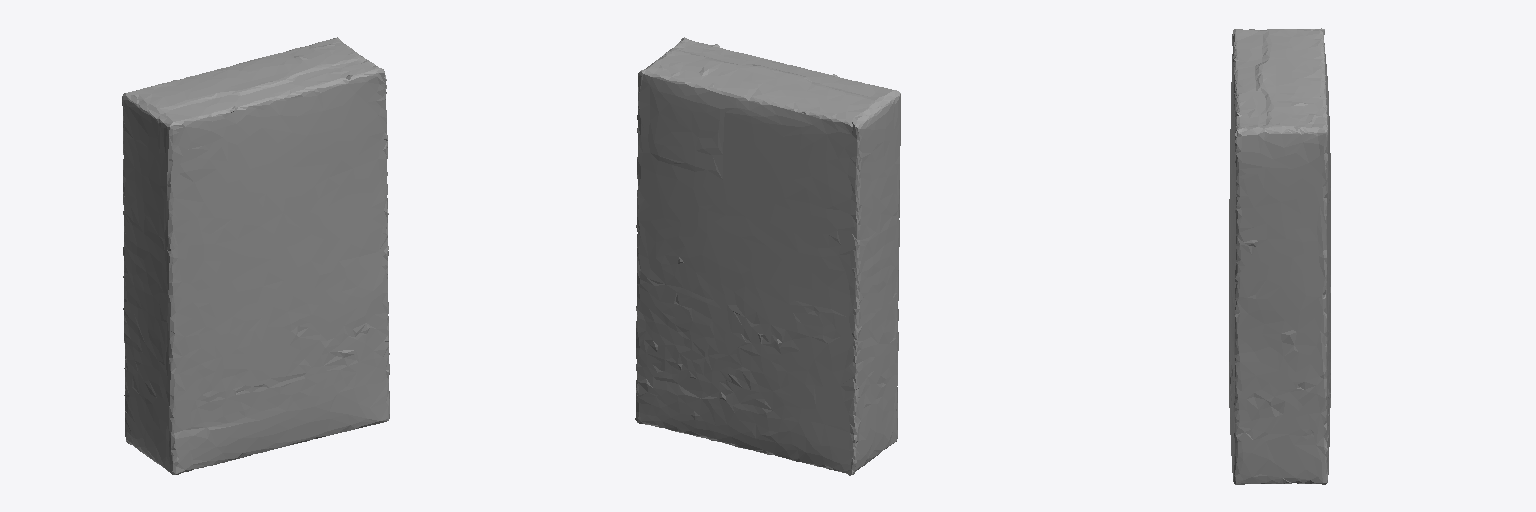
Rendered from KoellnMuesliKnusperHonigNuss.obj.
The picture shows the model from 3 angles: view 1: azimuth 30°, elevation 25°; view 2: azimuth 150°, elevation 25°; view 3: azimuth 270°, elevation 25°; orthographic projection.
Visible parts, largest first — view 1: Scan_PIVOT_Scan.003; view 2: Scan_PIVOT_Scan.003; view 3: Scan_PIVOT_Scan.003.
Boxes of the visible parts, x1,y1,x2,y2 form: Scan_PIVOT_Scan.003: [122, 37, 389, 474]; Scan_PIVOT_Scan.003: [635, 37, 900, 475]; Scan_PIVOT_Scan.003: [1229, 28, 1330, 484].
Size of the model in its own units: 0.177 by 0.2683 by 0.0697.